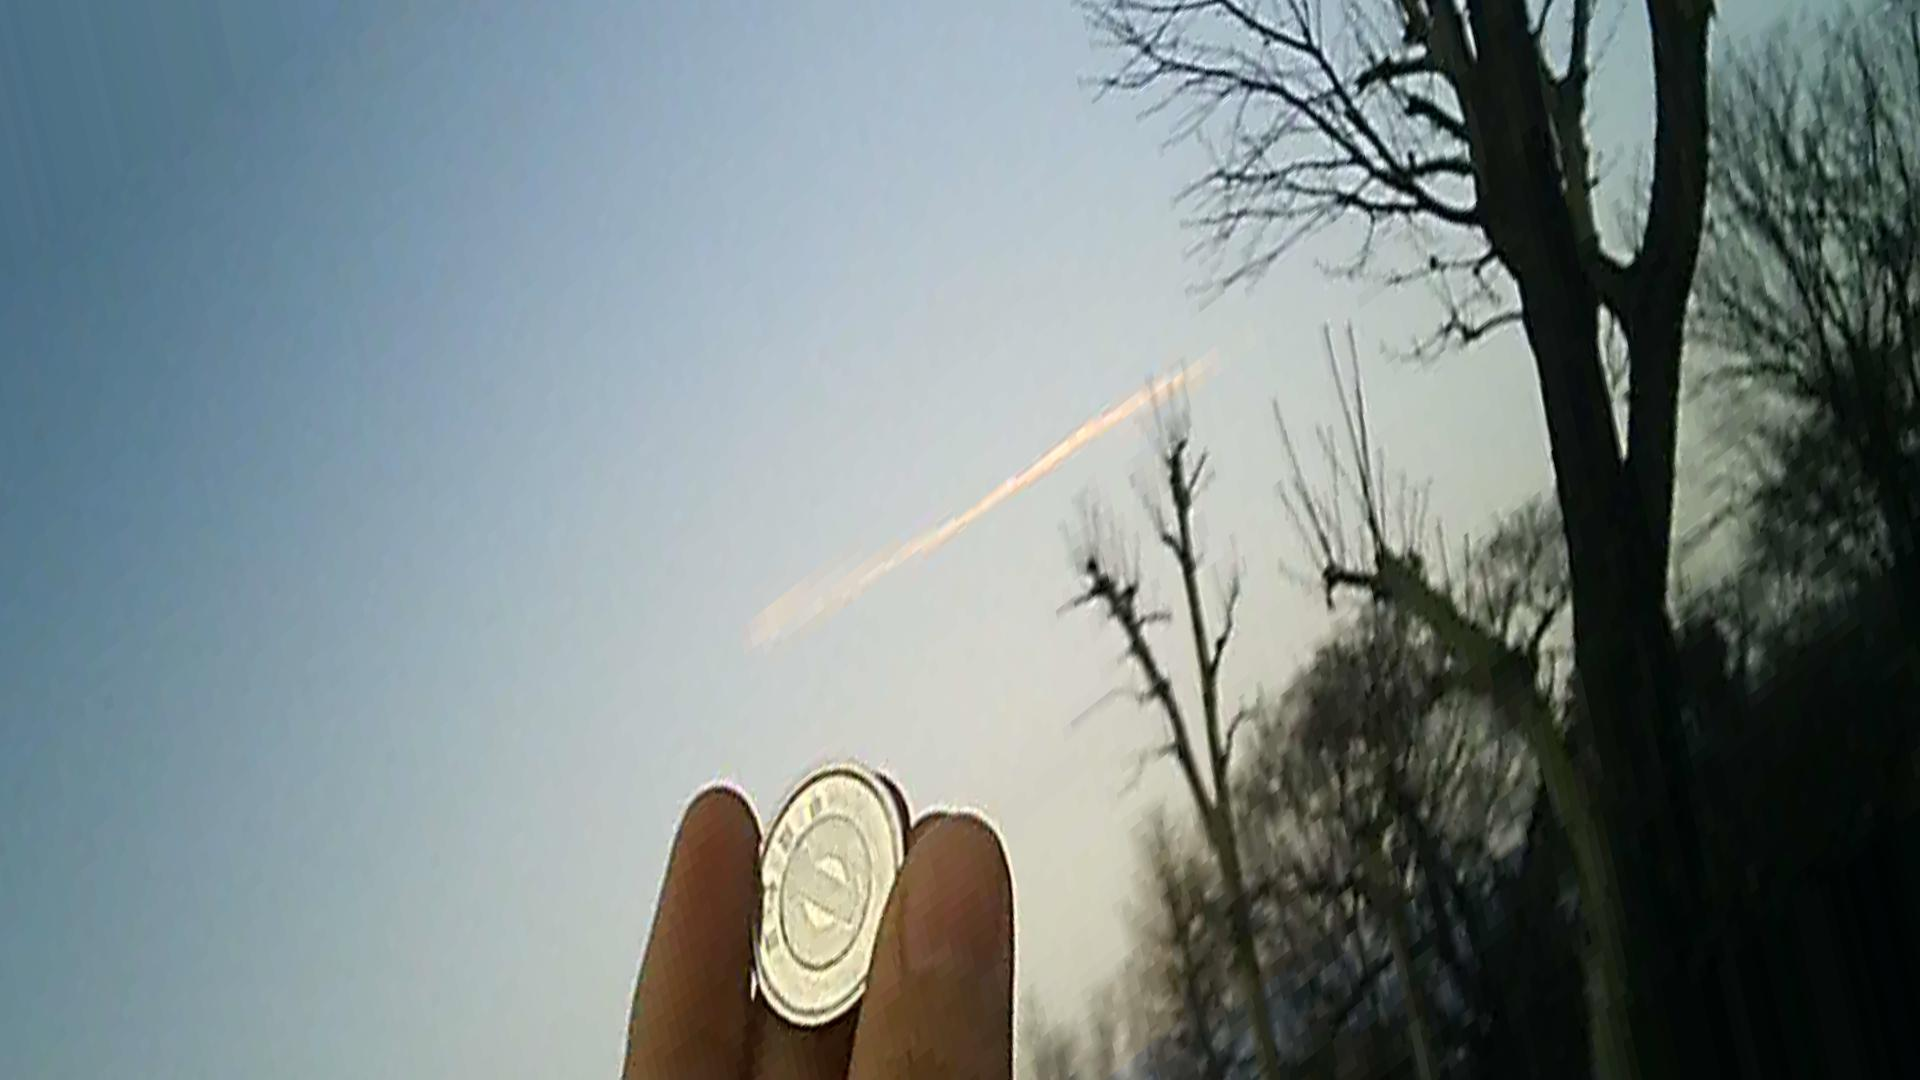1 Yen: (738, 752, 928, 1021)
